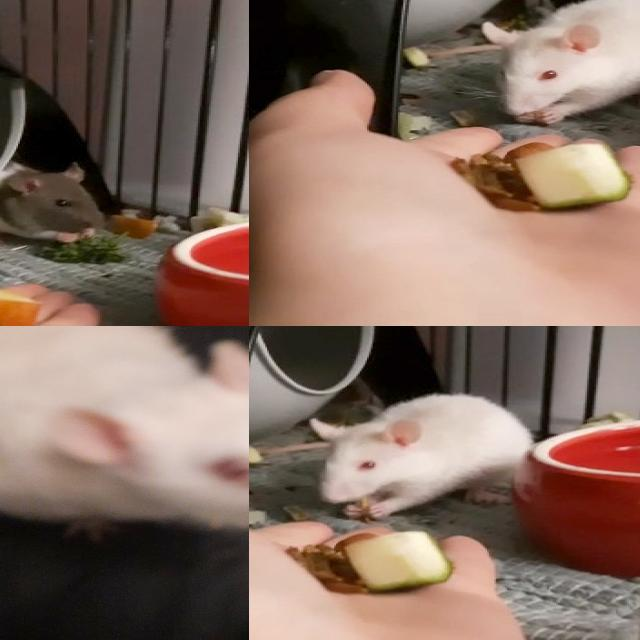rat: (0, 326, 249, 544), (310, 393, 530, 520), (482, 0, 640, 126), (0, 163, 107, 246)
